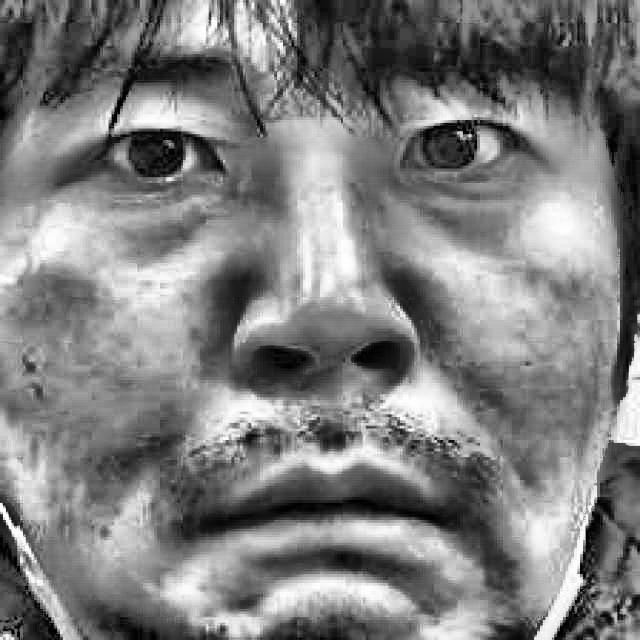fear: (8, 34, 584, 606)
